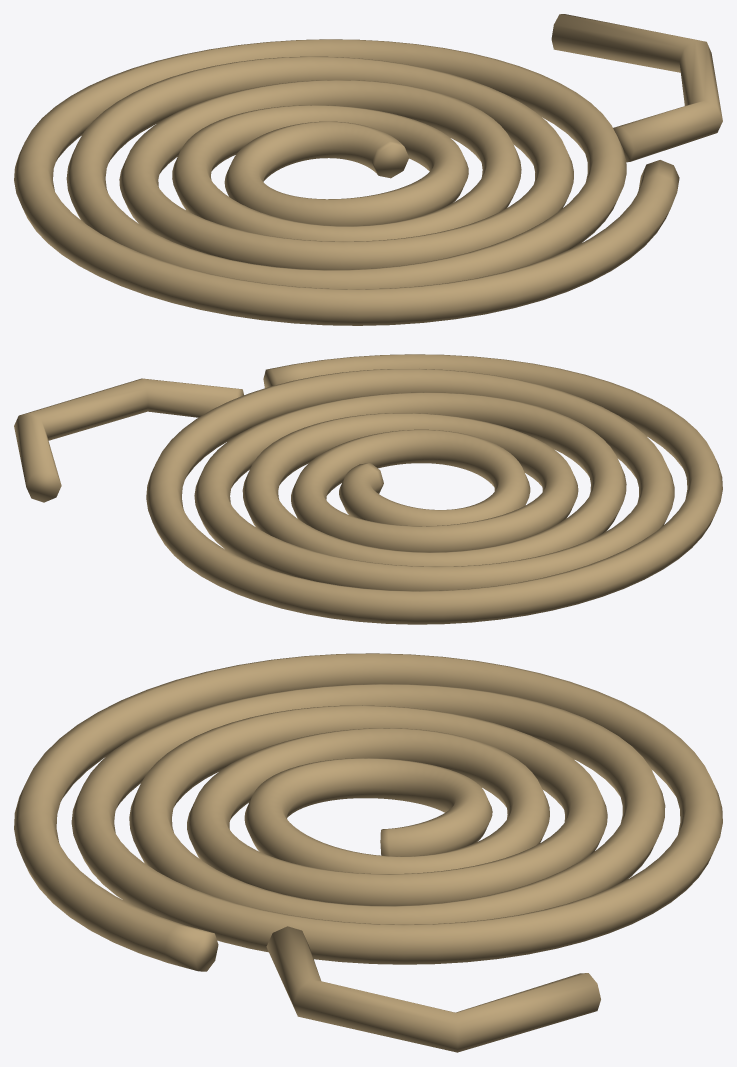
The model's file is rope-coil.glb.
3 renders of one model, top to bottom at view 1: azimuth 30°, elevation 25°; view 2: azimuth 150°, elevation 25°; view 3: azimuth 270°, elevation 25°, orthographic. The views are drawn at different scales.
Parts seen in each view (by area): view 1: rope-coil__rope; view 2: rope-coil__rope; view 3: rope-coil__rope.
Part boxes in pixels (x1,y1,x2,y2): rope-coil__rope: (14,14,722,325); rope-coil__rope: (14,354,722,624); rope-coil__rope: (14,653,722,1052).
Size of the model in its own units: 1.19 by 0.07 by 0.9648.
